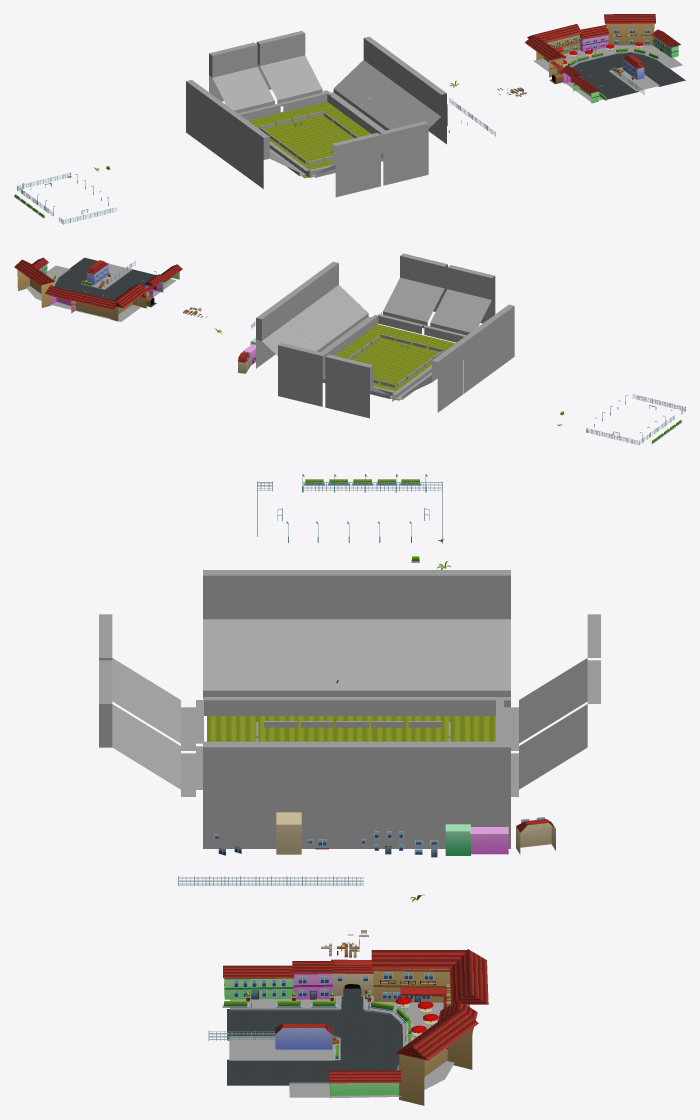
Rendered from level4_FBX.fbx.
3 views of the same model, one above another, from view 1: azimuth 30°, elevation 25°; view 2: azimuth 150°, elevation 25°; view 3: azimuth 270°, elevation 25° (orthographic). The views are drawn at different scales.
Parts seen in each view (by area): view 1: pPlane27, pCube89, pCube88, pCube87, pCube86, pCube83, pCube85, pPlane26, pCube80, pCube84, pCube81, pCube82 (+9 smaller); view 2: pPlane27, pCube87, pCube86, pCube88, pCube89, pCube84, pCube85, pCube82, pCube83, pPlane26, pCube81, polySurface308 (+7 smaller); view 3: pCube81, pCube80, pCube82, pCube85, pCube84, pCube83, pPlane26, pPlane27, pCube86, polySurface308, pCube87, pCube88 (+15 smaller).
Boxes of the visible parts, <box> form: pPlane27: <box>248,102,370,178</box>; pCube89: <box>256,31,327,112</box>; pCube88: <box>209,42,280,120</box>; pCube87: <box>309,132,380,197</box>; pCube86: <box>380,121,428,185</box>; pCube83: <box>323,36,394,117</box>; pCube85: <box>349,55,420,133</box>; pPlane26: <box>549,52,685,99</box>; pCube80: <box>237,117,309,188</box>; pCube84: <box>375,74,446,144</box>; pCube81: <box>212,99,283,169</box>; pCube82: <box>186,80,217,150</box>; pPlane27: <box>334,324,455,400</box>; pCube87: <box>424,265,495,342</box>; pCube86: <box>378,253,447,334</box>; pCube88: <box>325,354,395,418</box>; pCube89: <box>278,343,325,406</box>; pCube84: <box>307,261,378,341</box>; pCube85: <box>282,280,352,355</box>; pCube82: <box>392,342,463,412</box>; pCube83: <box>256,299,327,368</box>; pPlane26: <box>55,257,156,307</box>; pCube81: <box>418,323,488,393</box>; polySurface308: <box>66,283,147,321</box>; pCube81: <box>304,570,407,715</box>; pCube80: <box>203,570,305,715</box>; pCube82: <box>407,570,510,715</box>; pCube85: <box>304,741,407,848</box>; pCube84: <box>203,741,305,848</box>; pCube83: <box>407,741,510,848</box>; pPlane26: <box>227,988,402,1085</box>; pPlane27: <box>207,716,495,741</box>; pCube86: <box>99,660,202,796</box>; polySurface308: <box>371,949,488,1006</box>; pCube87: <box>99,614,203,750</box>; pCube88: <box>496,614,600,750</box>.
Bounding box in the file's own units: 3730 × 293 × 1270.
